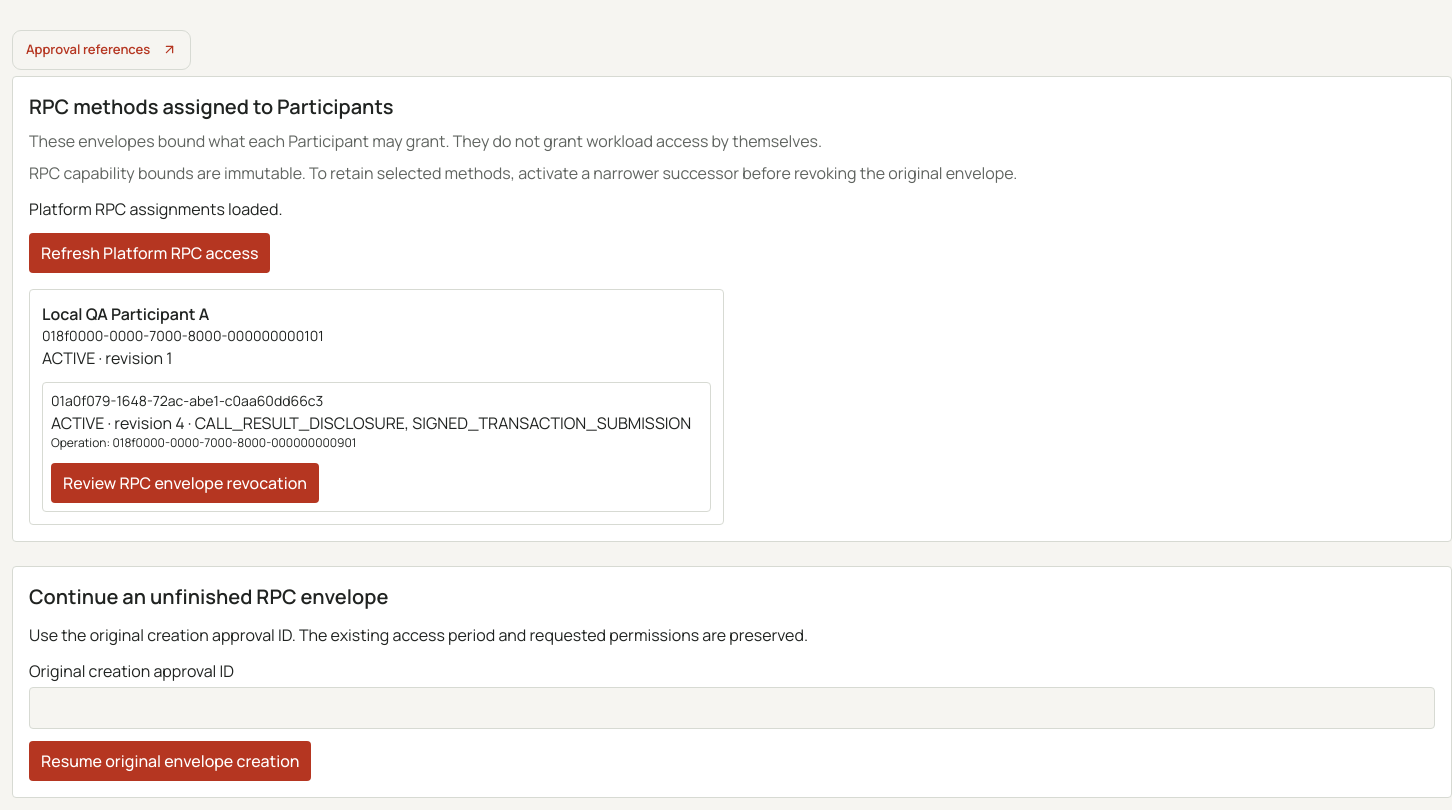
Test: reviews an active RPC envelope revocation and keeps revoked envelopes visible
The image size is (1452, 810).
Later steps or results of the test are not shown.
Click the button "Review RPC envelope revocation": (185, 482) x1=51 y1=462 x2=319 y2=502
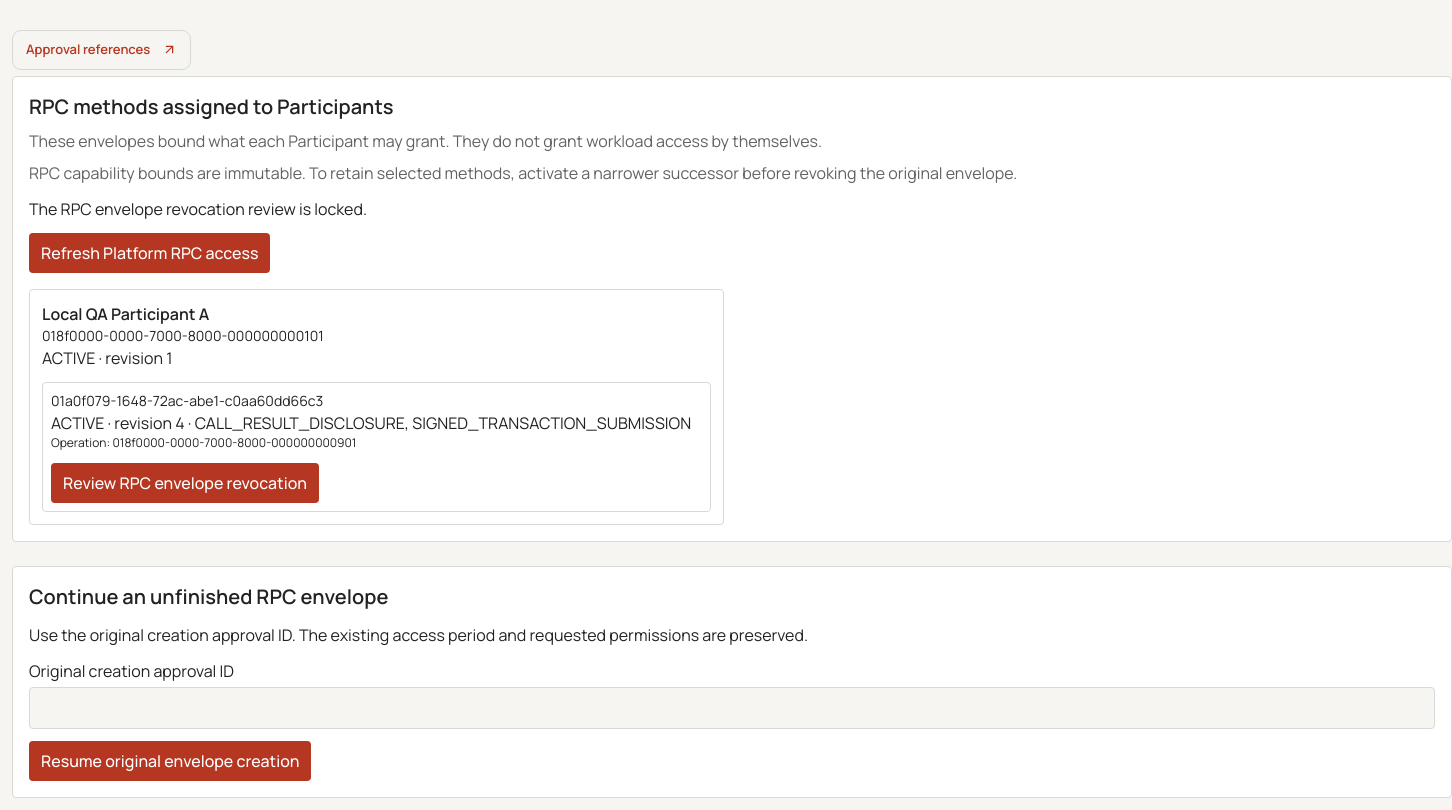
Result: the text "The RPC envelope revocation review is locked." is shown at x1=29 y1=198 x2=367 y2=220
